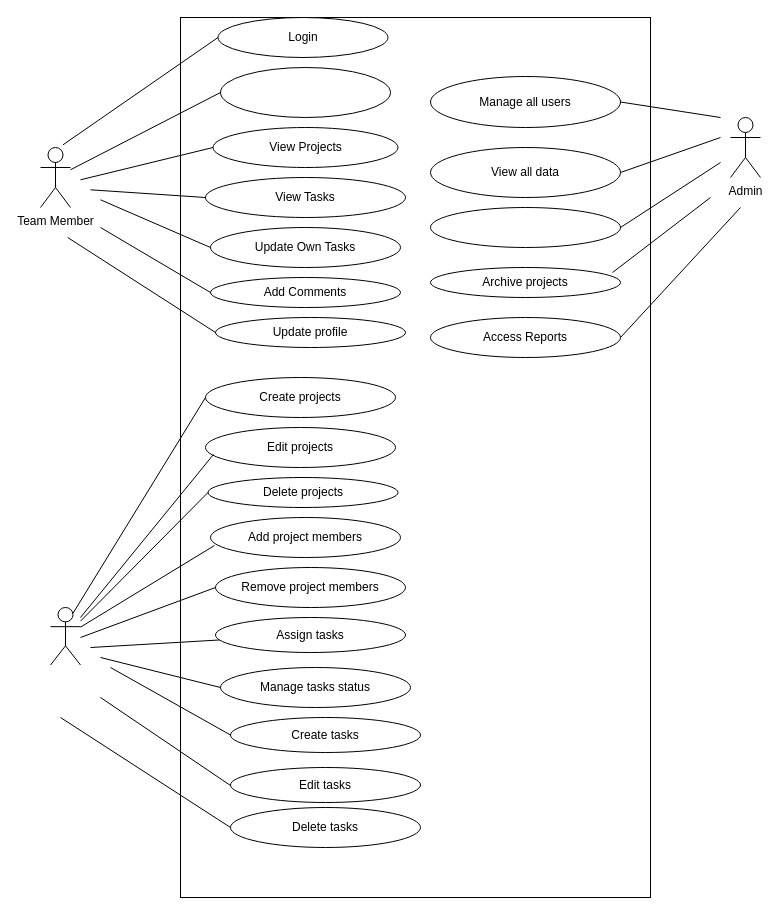
This 780x915 diagram has some shape labels left out. The shapes that lost their labels are listed below. From the top down, each one's centre as x and y in pixels, then its label:
At [305,92]: "View Dashboard".
At [525,227]: "System configuration".
At [65,635]: "Project Manager".
